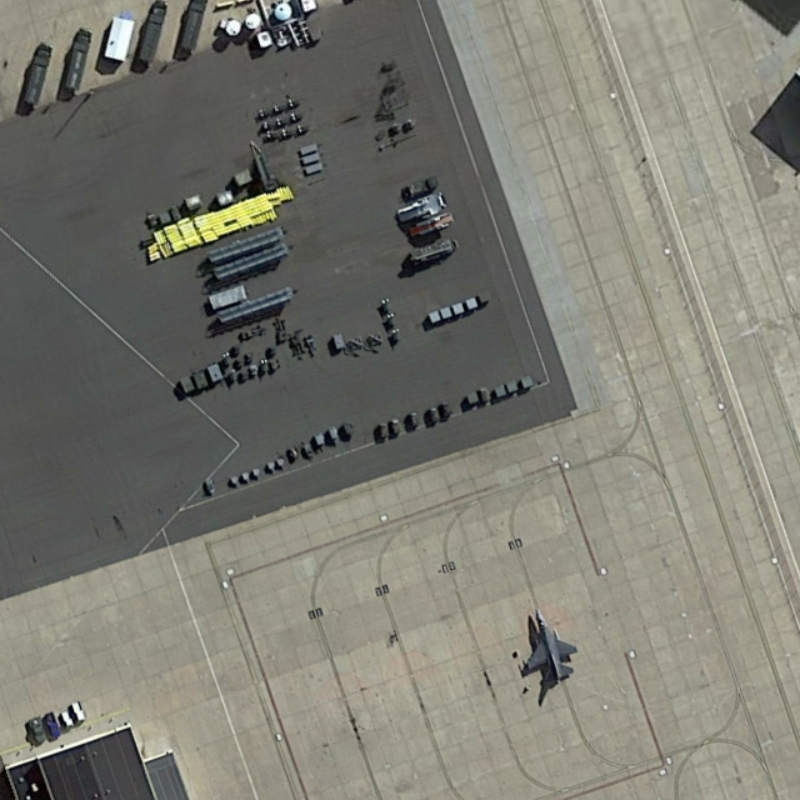A5: (513, 601, 589, 694)
